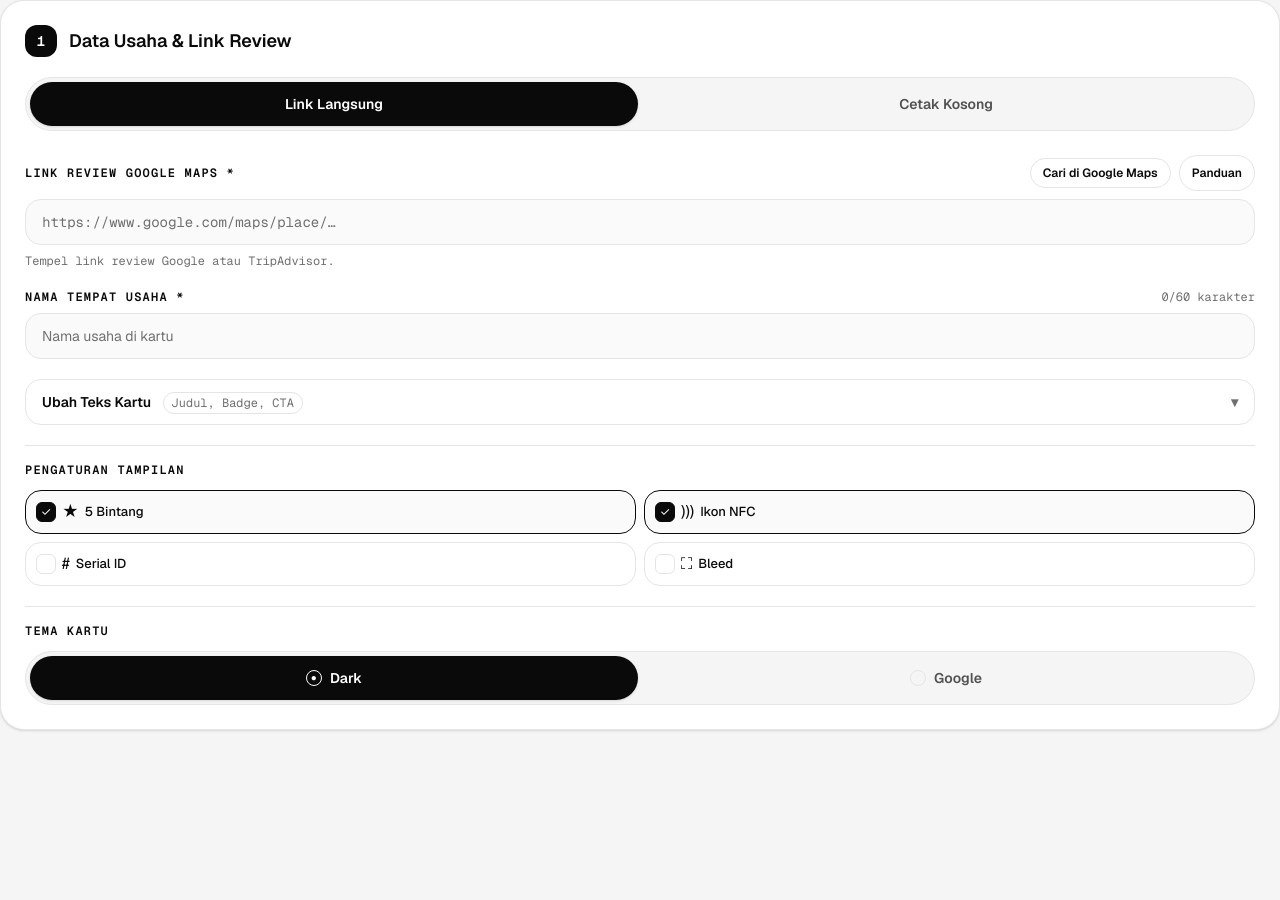
Test case: BusinessForm › counter nama akurat dan helper link memakai hint validator
The width and height of the screenshot is (1280, 900).
Type "Kopi Senja" into the field labelled "Nama tempat usaha *" at (640, 336), box [25,313,1255,359]
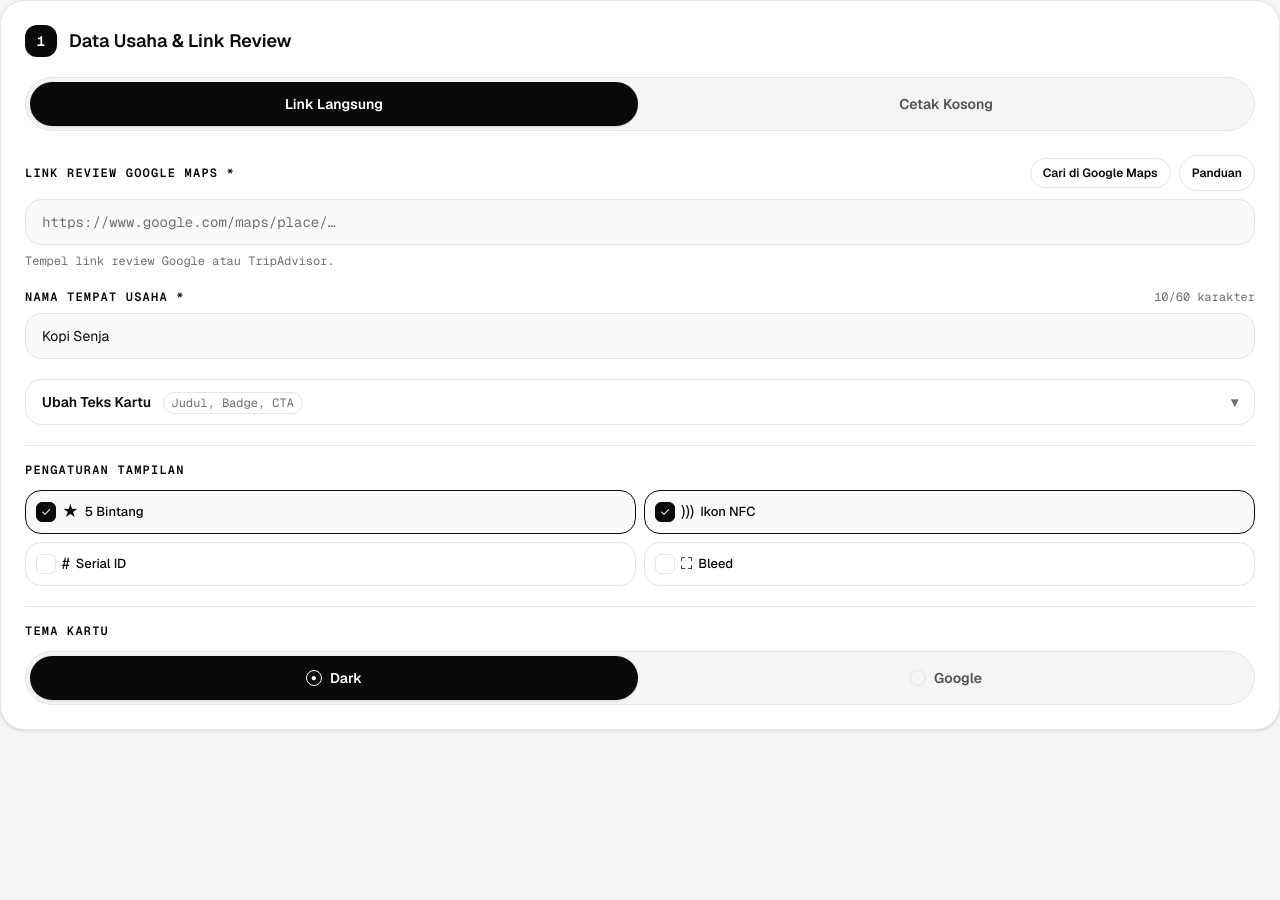
Now the text "10/60 karakter" is shown, box [1154,289,1255,305]
Type "https://www.google.com/maps/place/?q=place_id:ChIJ149LSEexzS0RYOTs2W8-6NY" into the field labelled "Link review Google Maps *" at (640, 222), box [25,199,1255,245]
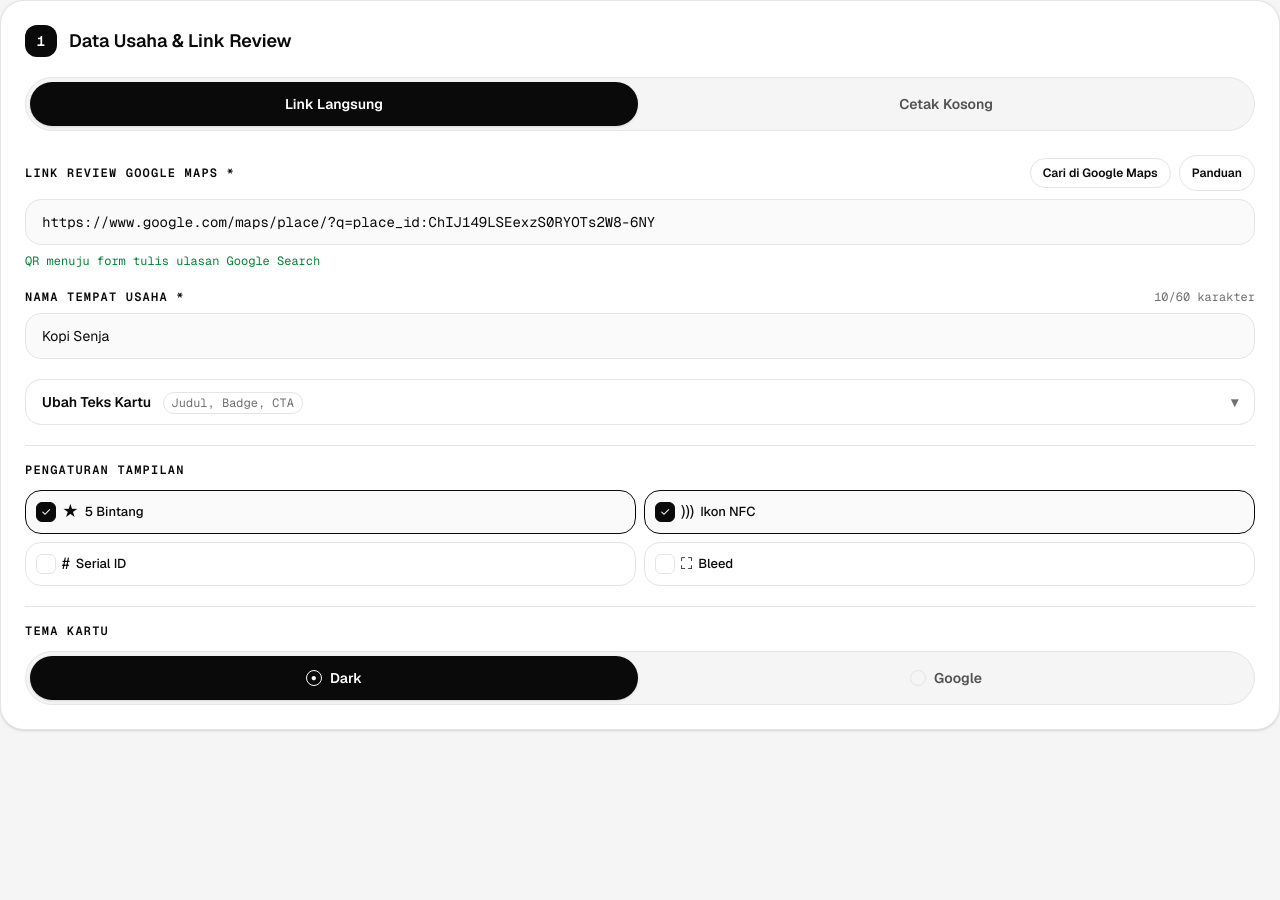
Now the text "QR menuju form tulis ulasan Google Search" is shown, box [25,253,320,269]
